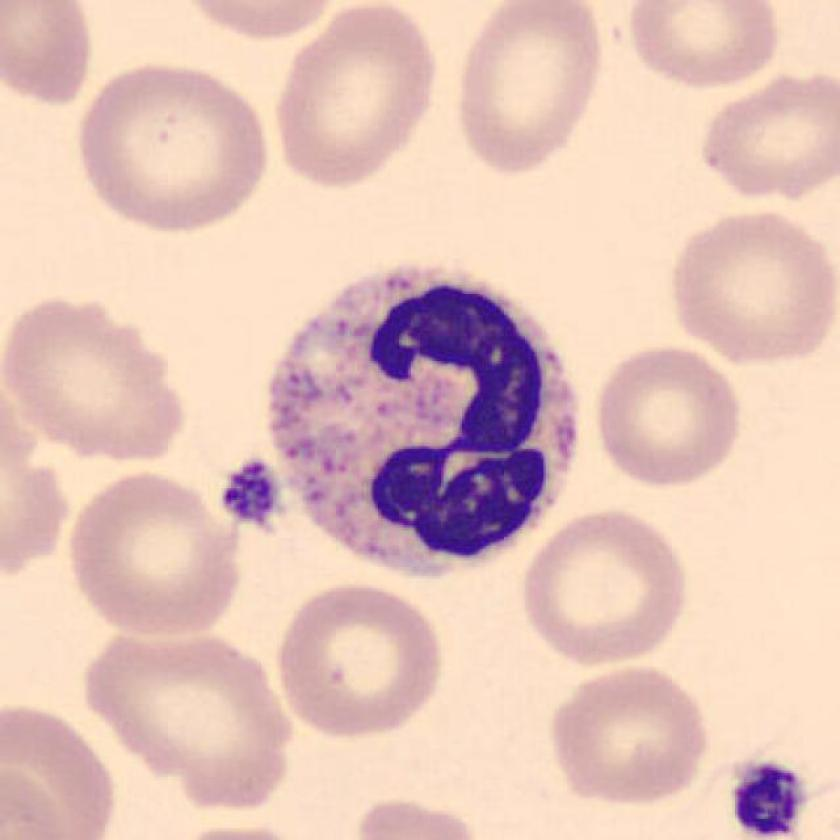neutrophil: (270, 268, 581, 575)
